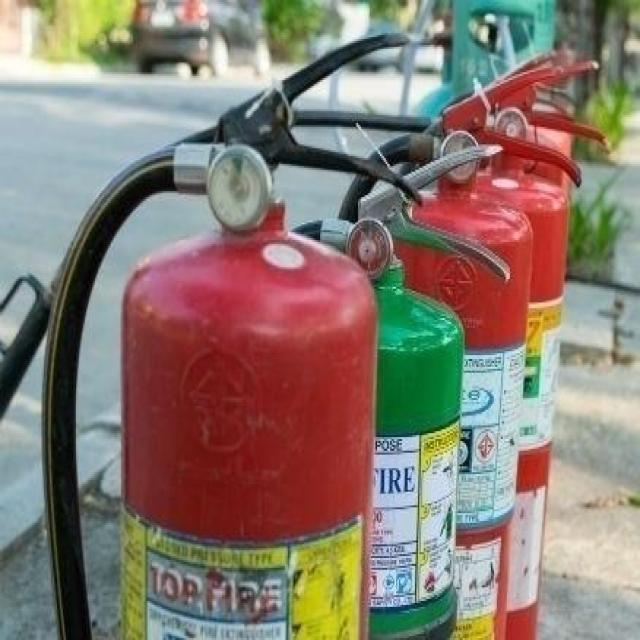fire_extinguisher: (31, 23, 430, 638), (324, 61, 585, 638), (232, 133, 514, 638), (387, 53, 614, 638)
